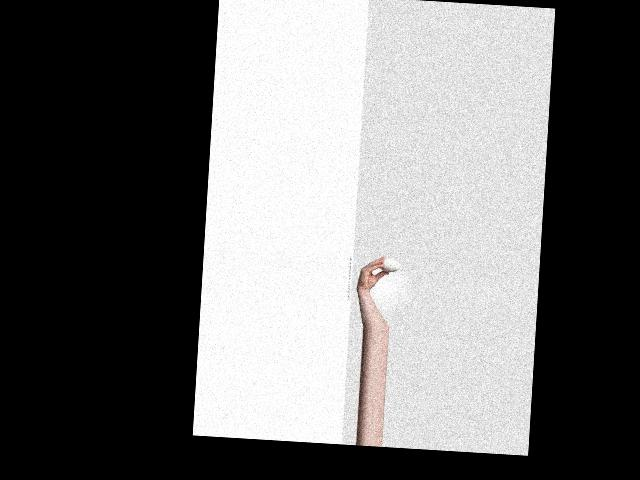egg: (379, 258, 400, 273)
